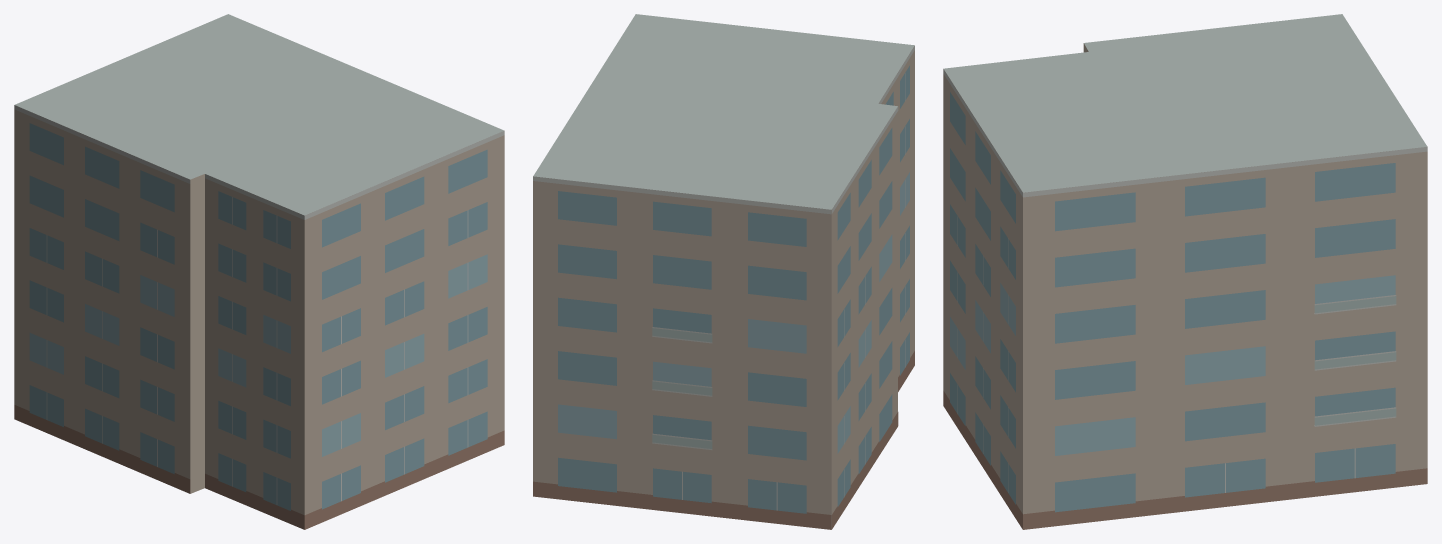
Rendered from survey-upis-32712909.glb.
3 renders of one model, left to right at view 1: azimuth 30°, elevation 25°; view 2: azimuth 150°, elevation 25°; view 3: azimuth 270°, elevation 25°, orthographic. The views are drawn at different scales.
Visible parts, largest first — view 1: survey-upis-32712909.tmp; view 2: survey-upis-32712909.tmp; view 3: survey-upis-32712909.tmp.
Part boxes in pixels (x1,y1,x2,y2): survey-upis-32712909.tmp: [14, 14, 504, 529]; survey-upis-32712909.tmp: [533, 14, 914, 529]; survey-upis-32712909.tmp: [943, 14, 1427, 529].
Size of the model in its own units: 19.44 by 17.1 by 22.26.
